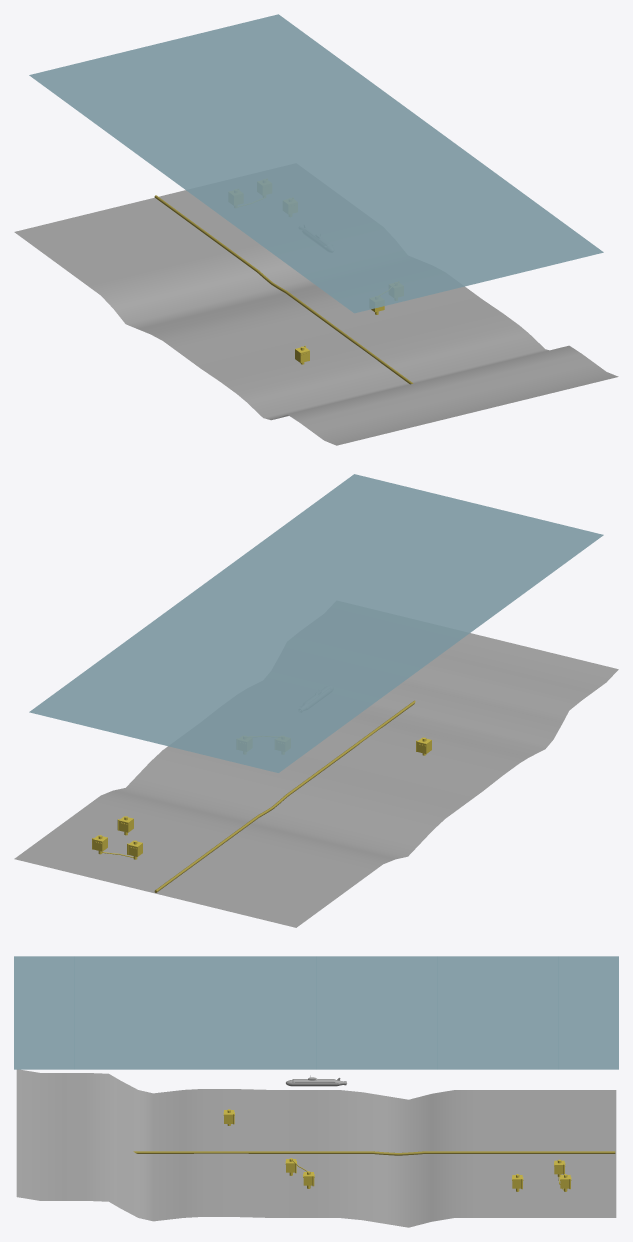
Rendered from Test - submarine.fbx.
The picture shows the model from 3 angles, top to bottom: view 1: azimuth 30°, elevation 25°; view 2: azimuth 150°, elevation 25°; view 3: azimuth 270°, elevation 25°; orthographic projection. The views are drawn at different scales.
Parts seen in each view (by area): view 1: Water, Seabed, pCylinder1; view 2: Water, Seabed, pCylinder1; view 3: Seabed, Water, pCylinder1, submarine.
Part boxes in pixels (<box>): Water: <box>29,14,603,313</box>; Seabed: <box>14,190,618,445</box>; pCylinder1: <box>154,195,413,384</box>; Water: <box>29,474,603,772</box>; Seabed: <box>14,633,618,927</box>; pCylinder1: <box>154,700,415,892</box>; Seabed: <box>16,1069,616,1227</box>; Water: <box>14,956,618,1069</box>; pCylinder1: <box>133,1151,615,1155</box>; submarine: <box>286,1075,346,1086</box>.
Size of the model in its own units: 198 by 109 by 396.
